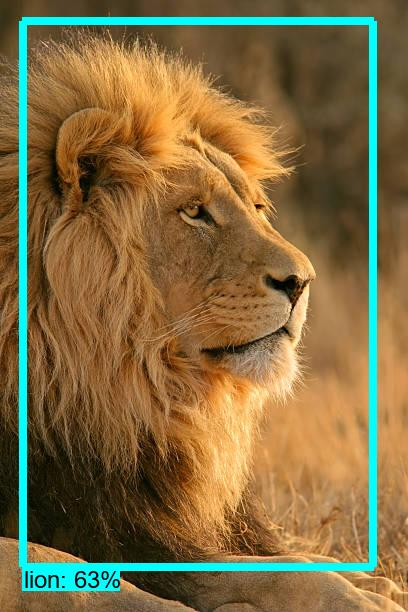lion: (4, 29, 362, 535)
